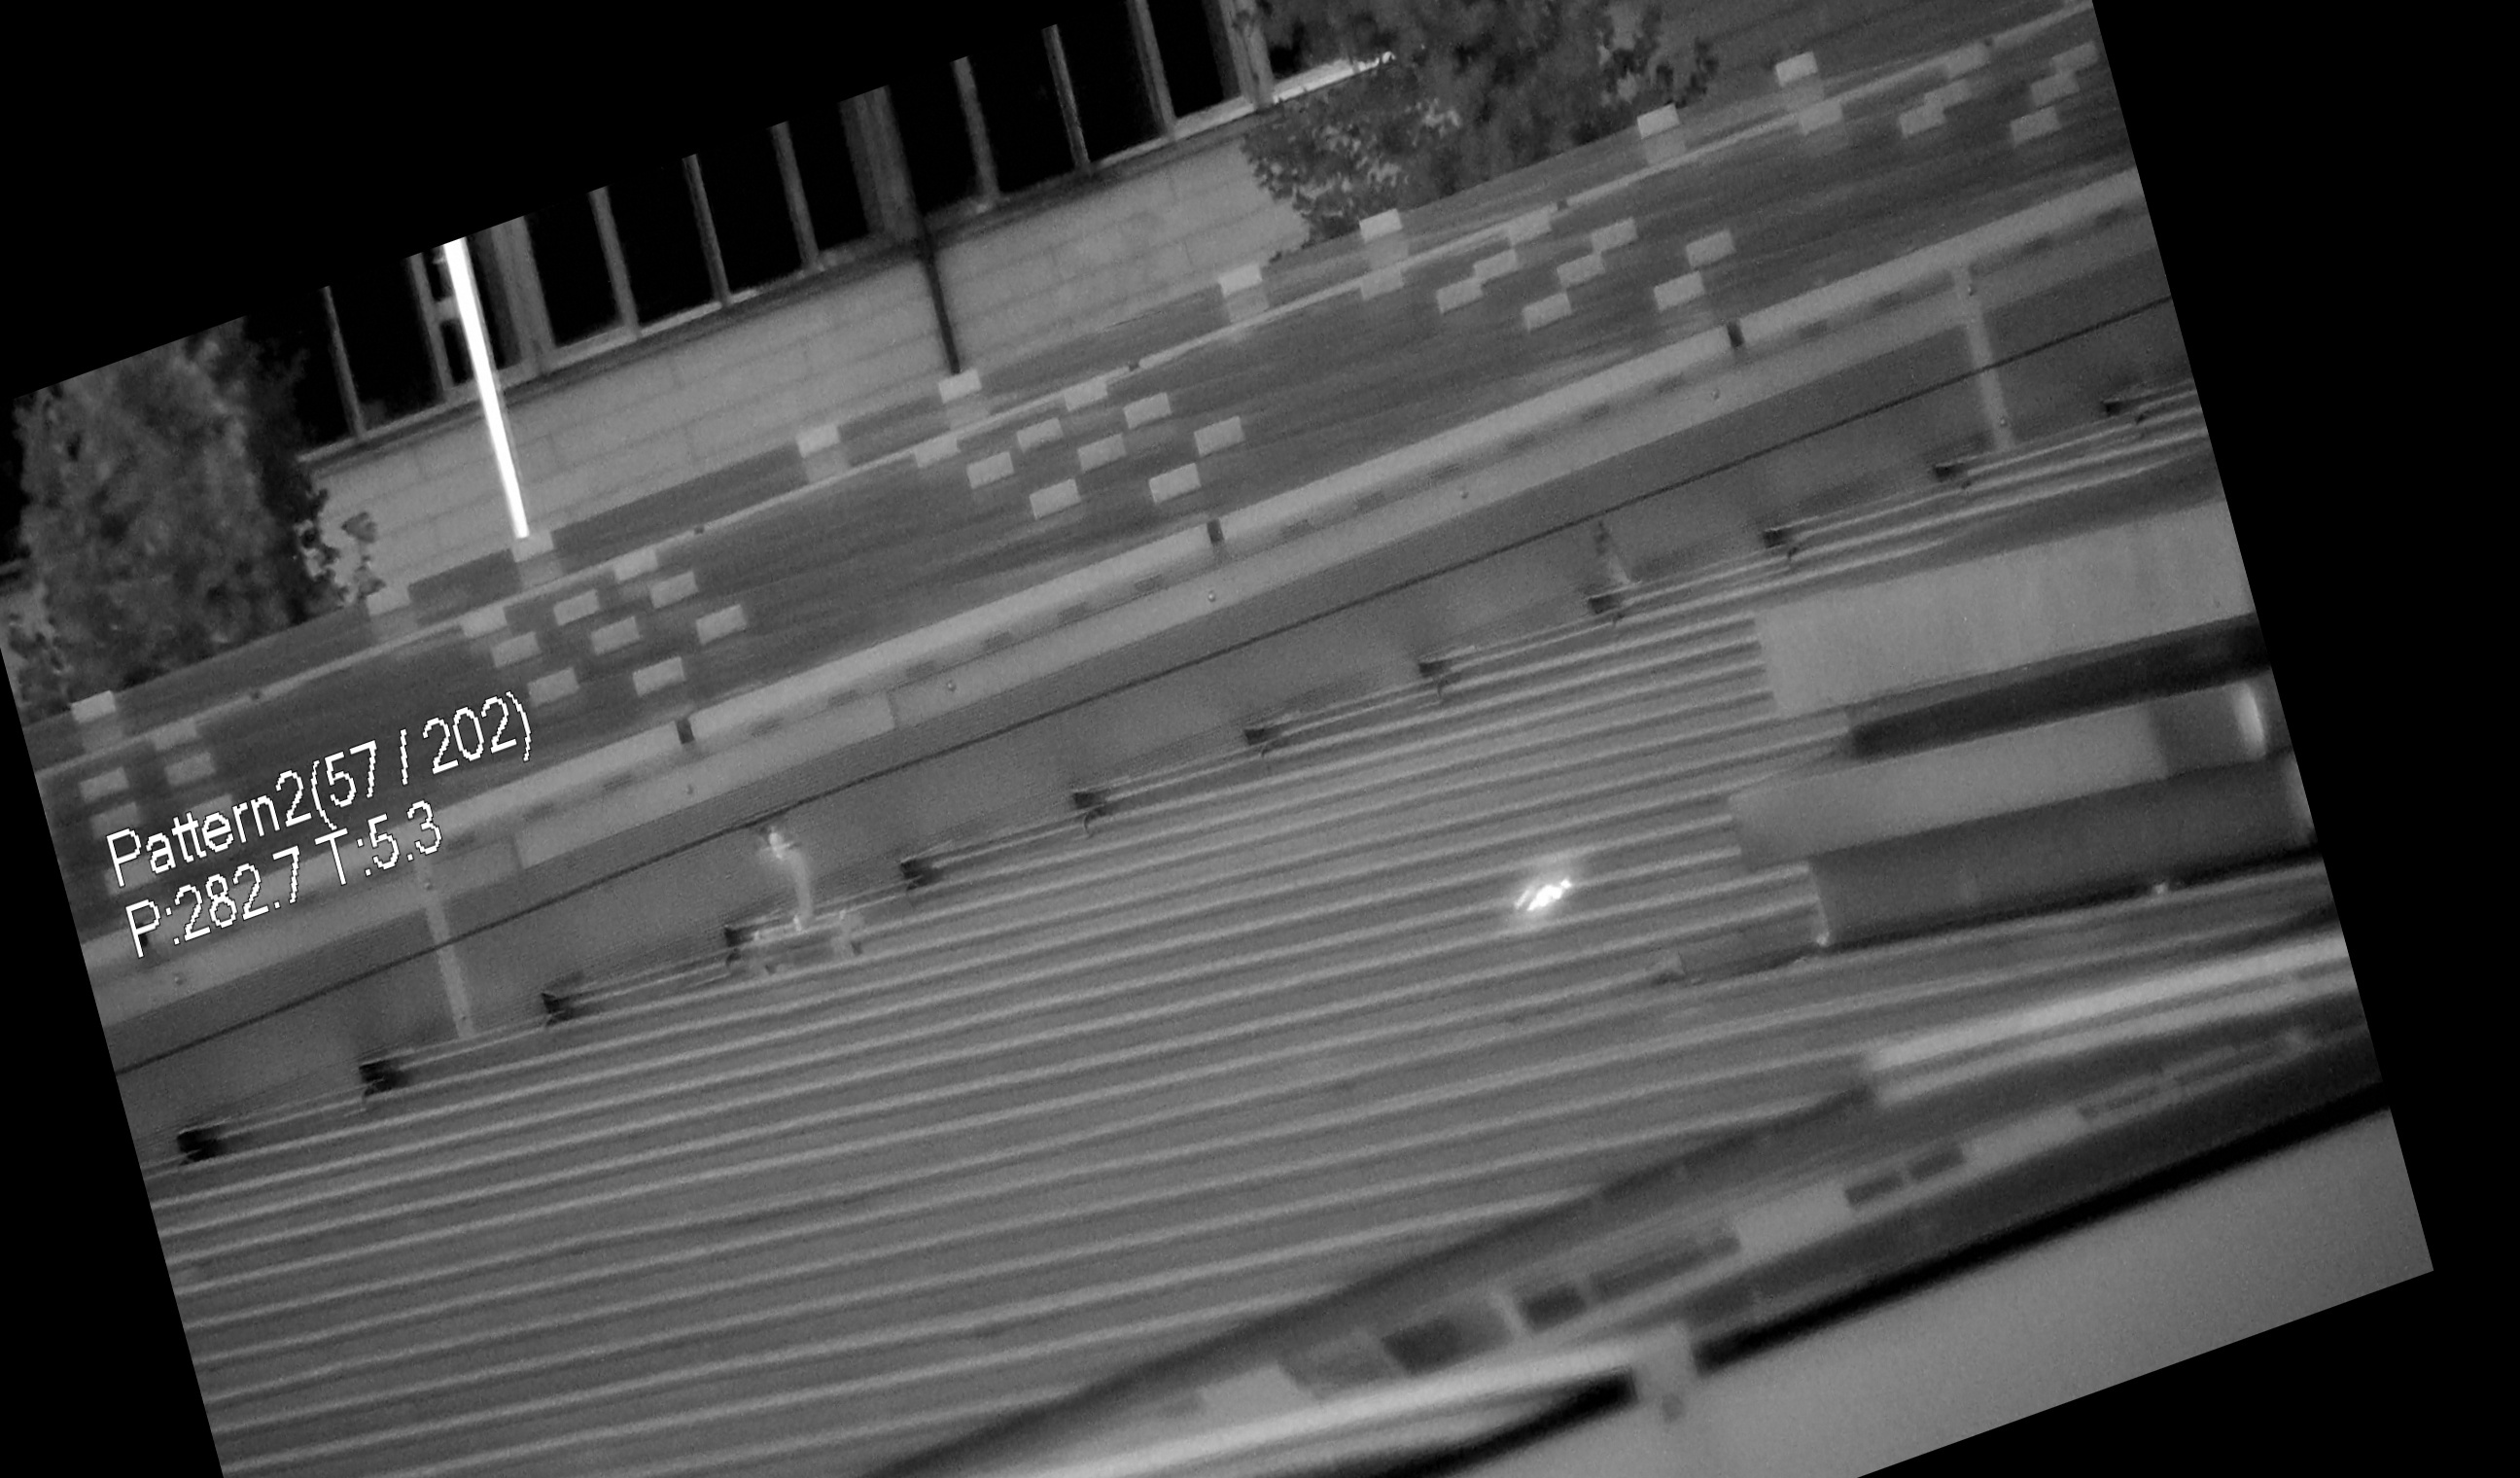Other: (1569, 493, 1664, 628)
